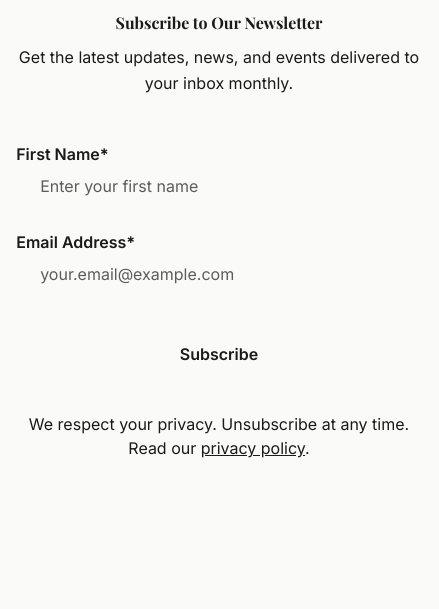
Test: NewsletterSignup › Validation › clears error when user starts typing
Click the button "Subscribe": [219, 354] box [16,320,422,388]
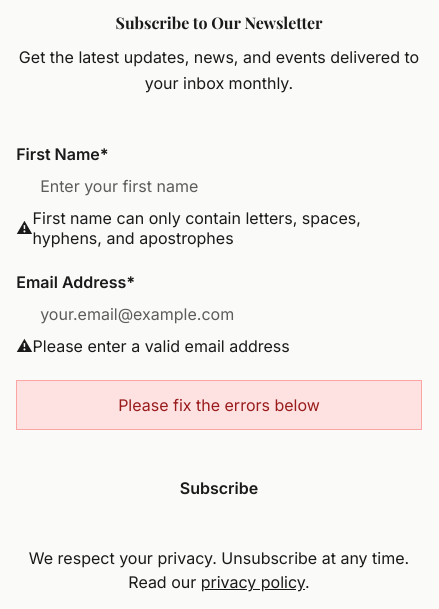
Check: the text "First name can only contain letters, spaces, hyphens, and apostrophes" is shown, box [33,208,361,248]
In the field labelled "First Name *": [219, 186] box [16,164,422,208], type "J"
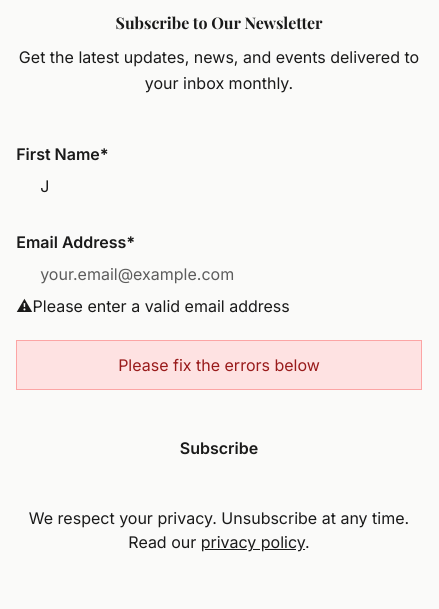
Check: the text "First name can only contain letters" is gone
